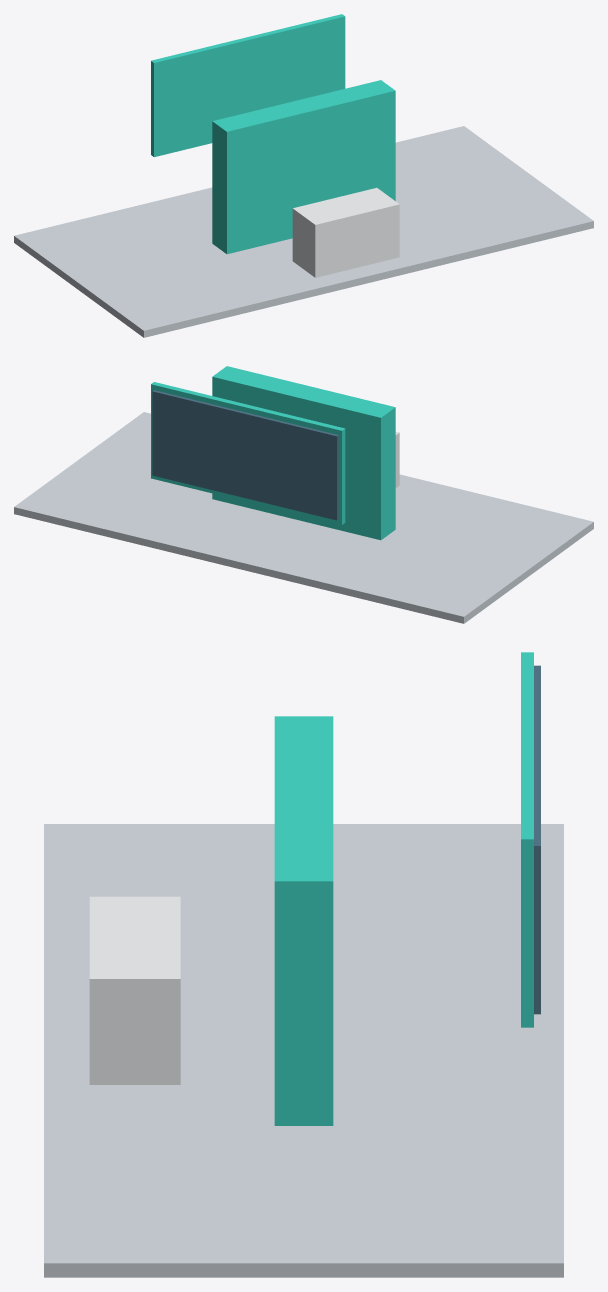
3 renders of one model, top to bottom at view 1: azimuth 30°, elevation 25°; view 2: azimuth 150°, elevation 25°; view 3: azimuth 270°, elevation 25°, orthographic. The views are drawn at different scales.
Visible parts, largest first — view 1: Exhibition Booth Concept; view 2: Exhibition Booth Concept; view 3: Exhibition Booth Concept.
Boxes of the visible parts, x1,y1,x2,y2 form: Exhibition Booth Concept: (14, 14, 593, 337); Exhibition Booth Concept: (14, 366, 593, 623); Exhibition Booth Concept: (44, 652, 563, 1277).
Bounding box in the file's own units: 8 × 2.65 × 4.
